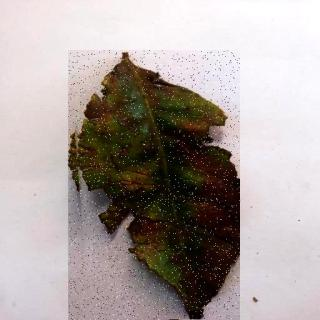Algal Leaf: (69, 51, 241, 320)
